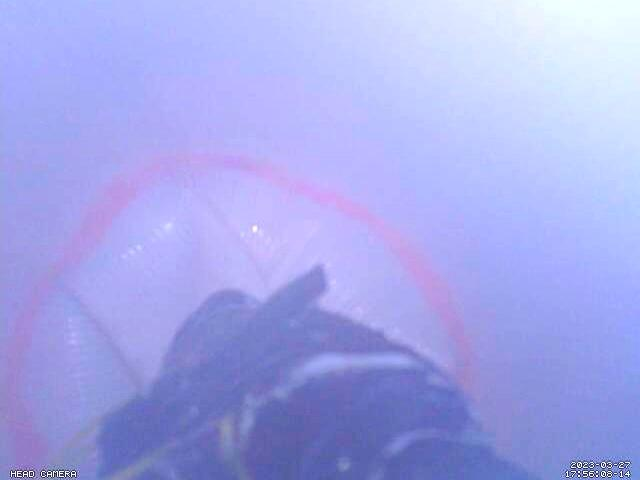head: (0, 149, 485, 480)
